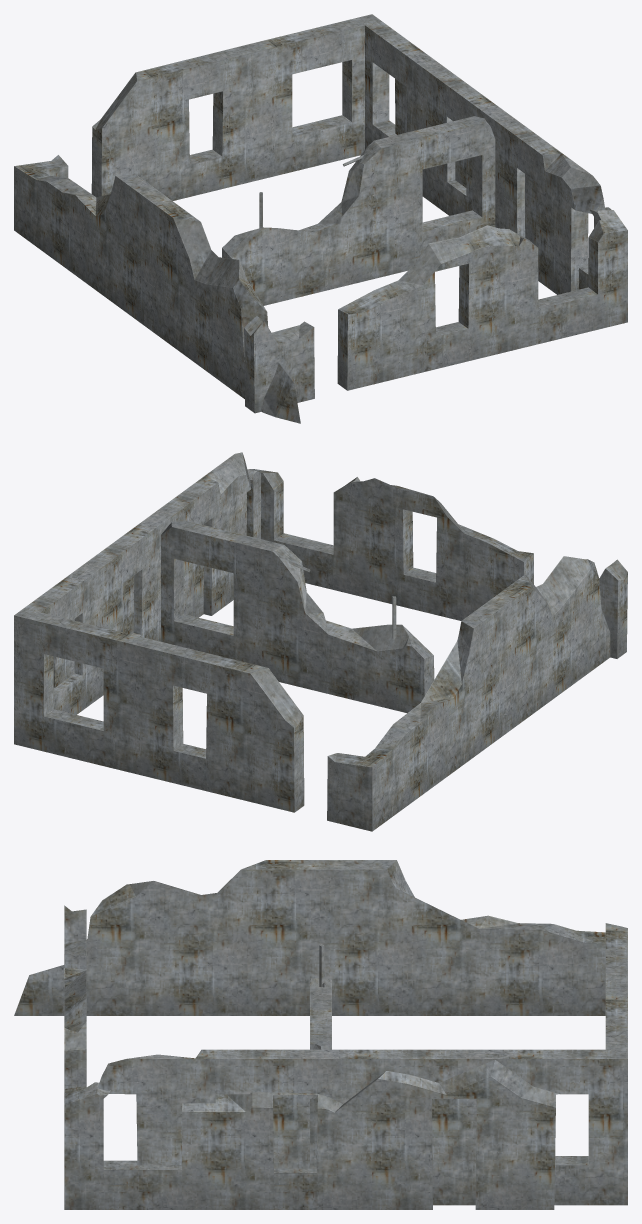
Rendered from ruins.glb.
The picture shows the model from 3 angles, top to bottom: view 1: azimuth 30°, elevation 25°; view 2: azimuth 150°, elevation 25°; view 3: azimuth 270°, elevation 25°; orthographic projection. The views are drawn at different scales.
Visible parts, largest first — view 1: workshop, broken-corner, window-wall; view 2: workshop, window-wall, broken-corner; view 3: workshop, broken-corner, window-wall.
Boxes of the visible parts, x1,y1,x2,y2 form: workshop: [14, 14, 605, 423]; broken-corner: [244, 51, 627, 413]; window-wall: [144, 116, 495, 332]; workshop: [14, 452, 610, 831]; window-wall: [161, 519, 511, 735]; broken-corner: [53, 469, 627, 687]; workshop: [14, 860, 627, 1205]; broken-corner: [64, 905, 559, 1209]; window-wall: [310, 944, 331, 1168].
Bounding box in the file's own units: 10.03 × 3.3 × 12.53.
1 material, 1 textured.
